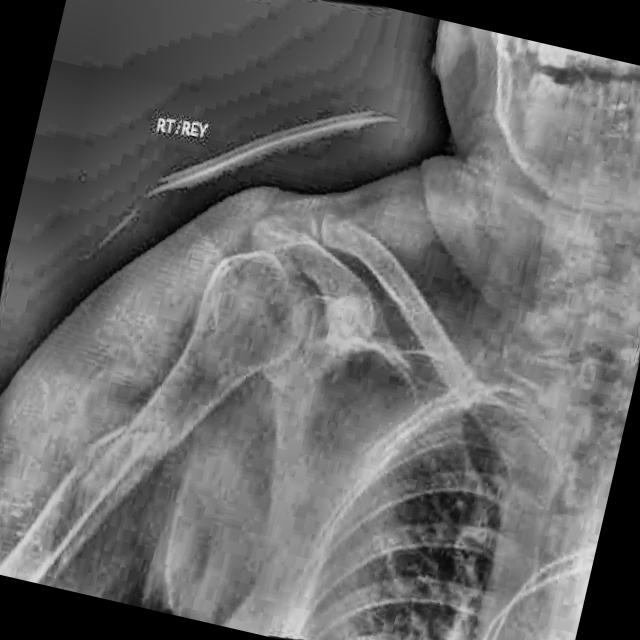shoulder fracture: (7, 359, 198, 588)
